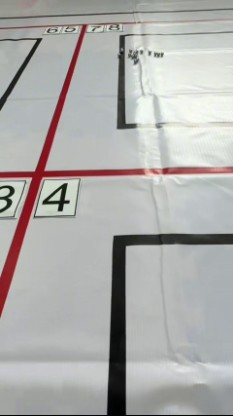ironball: (130, 47, 139, 56), (152, 47, 160, 57), (113, 50, 122, 58), (123, 50, 131, 59), (131, 54, 139, 62), (145, 46, 152, 55), (159, 49, 165, 59), (137, 46, 144, 53), (118, 45, 125, 51), (127, 46, 132, 54)
